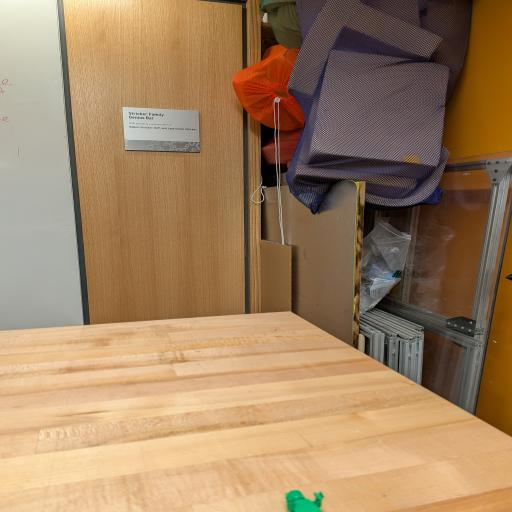Minifig: (286, 490, 323, 512)
